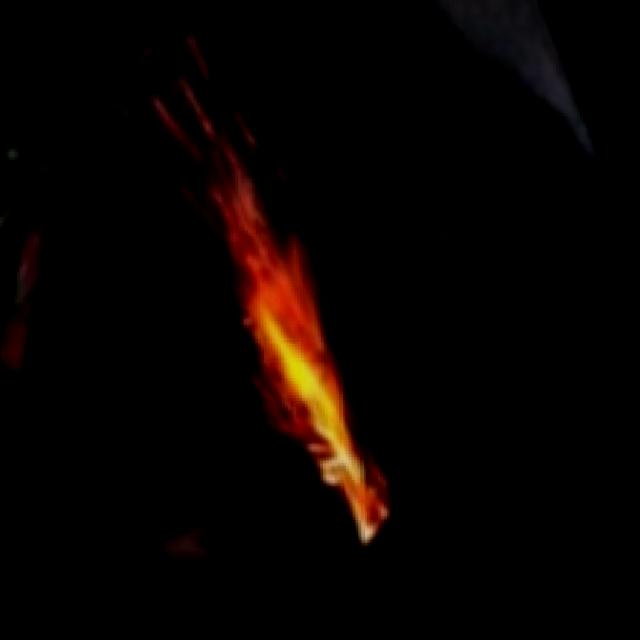fire: (104, 41, 468, 606)
